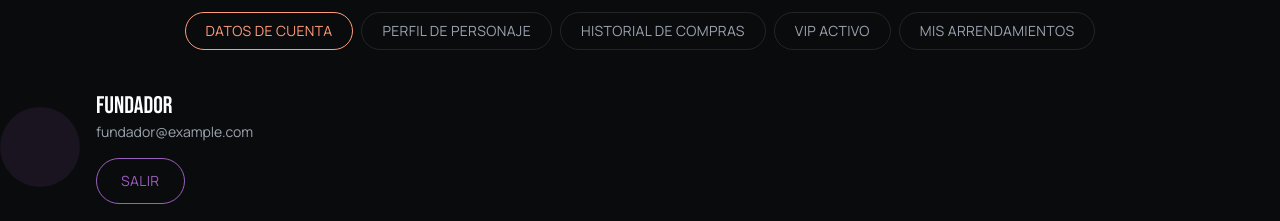
it: AccountTabs › renders real lease rows from Supabase when the tab is selected
What coordinates should you click on to do the following:
click the tab "Mis arrendamientos"
I would click on:
 (997, 31)
Its box is [899,12,1095,50].
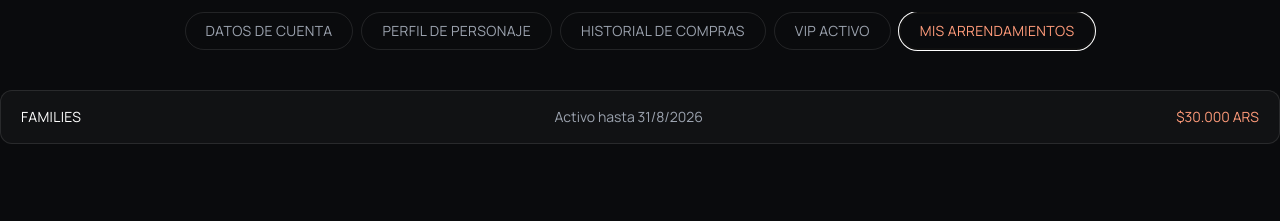
Check: the text "families" is shown, box [21,107,81,127]
Check: the text "Activo hasta 31/8/2026" is shown, box [554,107,703,127]
